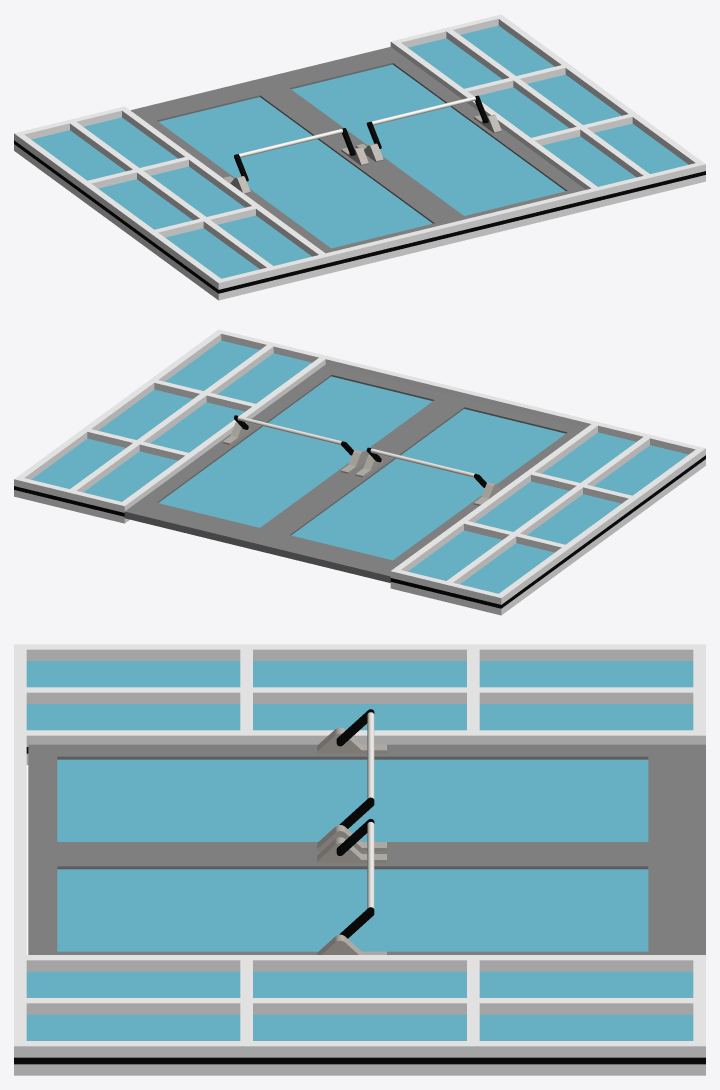
File: Double Doors with Windows.fbx
The picture shows the model from 3 angles, top to bottom: view 1: azimuth 30°, elevation 25°; view 2: azimuth 150°, elevation 25°; view 3: azimuth 270°, elevation 25°; orthographic projection. The views are drawn at different scales.
Visible parts, largest first — view 1: Body34, Body35, Body71, Body70, Body33, Body11, Body32, Body12, Body26, Body21, Body22, Body63 (+33 smaller); view 2: Body34, Body35, Body71, Body70, Body11, Body32, Body12, Body26, Body21, Body33, Body22, Body63 (+31 smaller); view 3: Body35, Body34, Body70, Body71, Body32, Body11, Body12, Body22, Body26, Body21, Body93, Body55 (+19 smaller).
Boxes of the visible parts, box(x1,y1,x2,y2) form: Body34: box(158, 97, 432, 248); Body35: box(291, 64, 565, 215); Body71: box(258, 47, 585, 222); Body70: box(130, 79, 452, 253); Body33: box(326, 188, 595, 262); Body11: box(14, 132, 224, 289); Body32: box(495, 14, 705, 172); Body12: box(66, 119, 277, 276); Body26: box(443, 27, 653, 185); Body21: box(119, 106, 329, 264); Body22: box(390, 40, 601, 197); Body63: box(594, 123, 688, 173); Body34: box(291, 409, 565, 560); Body35: box(158, 376, 432, 527); Body71: box(124, 365, 457, 550); Body70: box(257, 397, 584, 582); Body11: box(495, 447, 705, 604); Body32: box(14, 329, 224, 487); Body12: box(442, 434, 653, 591); Body26: box(66, 342, 276, 500); Body21: box(390, 421, 600, 579); Body33: box(325, 356, 594, 428); Body22: box(118, 355, 328, 512); Body63: box(165, 340, 259, 390); Body35: box(57, 869, 648, 951); Body34: box(57, 759, 648, 841); Body70: box(28, 744, 705, 854); Body71: box(28, 854, 705, 954); Body32: box(14, 1041, 705, 1057); Body11: box(14, 644, 705, 660); Body12: box(14, 687, 705, 703); Body22: box(14, 955, 705, 971); Body26: box(14, 998, 705, 1014); Body21: box(14, 730, 705, 746); Body93: box(14, 1064, 705, 1075); Body55: box(26, 971, 240, 997).
Bounding box in the file's own units: 3353 × 358 × 2438.
